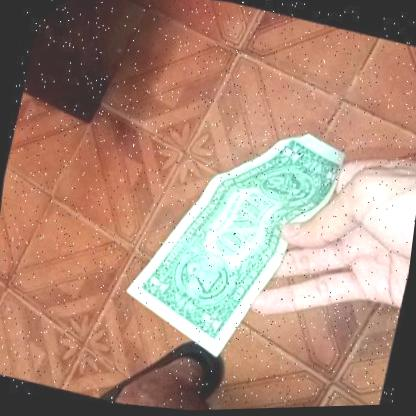dollar_back: (106, 91, 352, 385)
